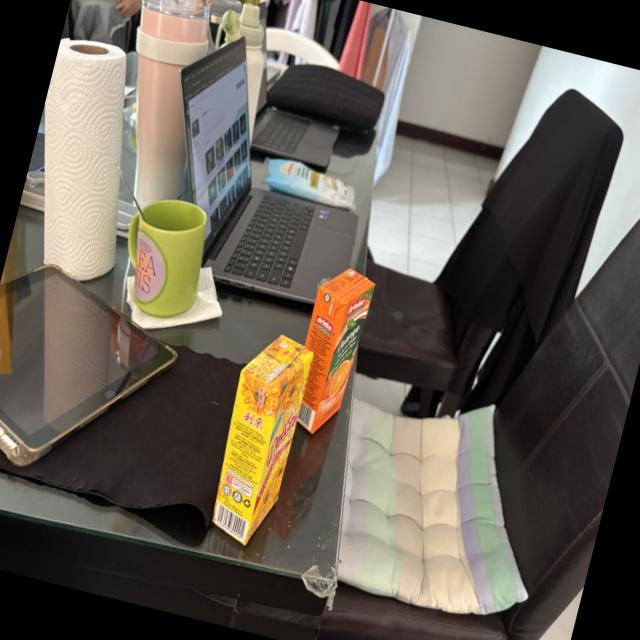drink_carton: (192, 316, 326, 558), (277, 254, 381, 446)
